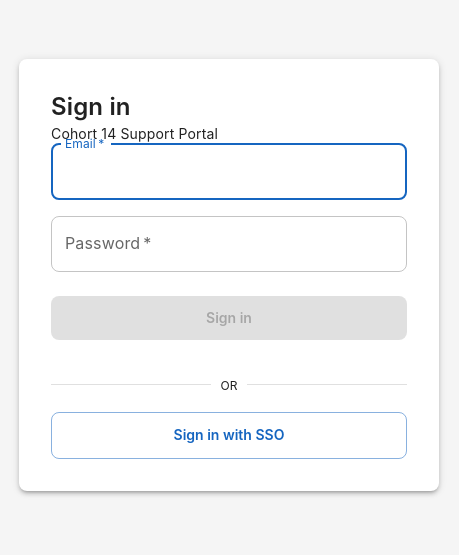
Test case: LoginPage › shows a generic error when fetch throws (network down)
Type "a@b.com" into the field labelled "Email *" at coordinates (229, 172), box left=51, top=144, right=407, bottom=200
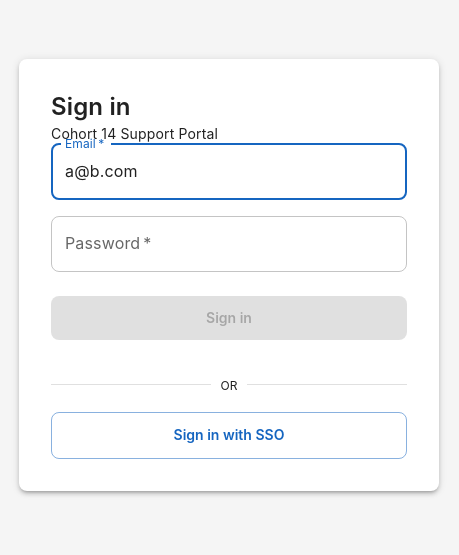
Type "pass" into the password field labelled "Password *" at coordinates (229, 244), box left=51, top=216, right=407, bottom=272
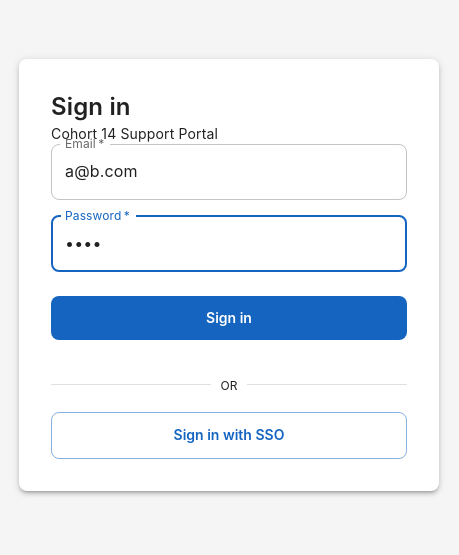
Click the button "Sign in" at coordinates (229, 318), box left=51, top=296, right=407, bottom=340
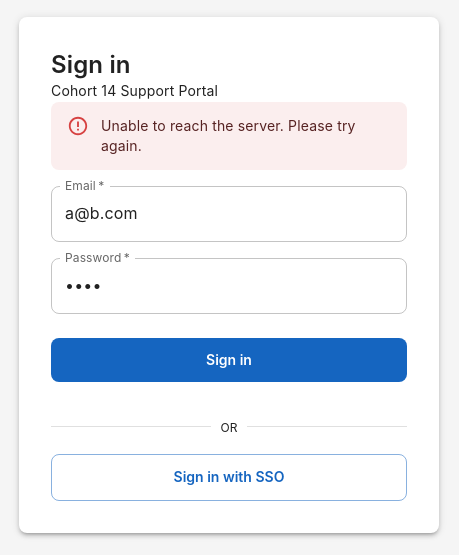
Expected: the message shows "Unable to reach", left=101, top=116, right=356, bottom=154
